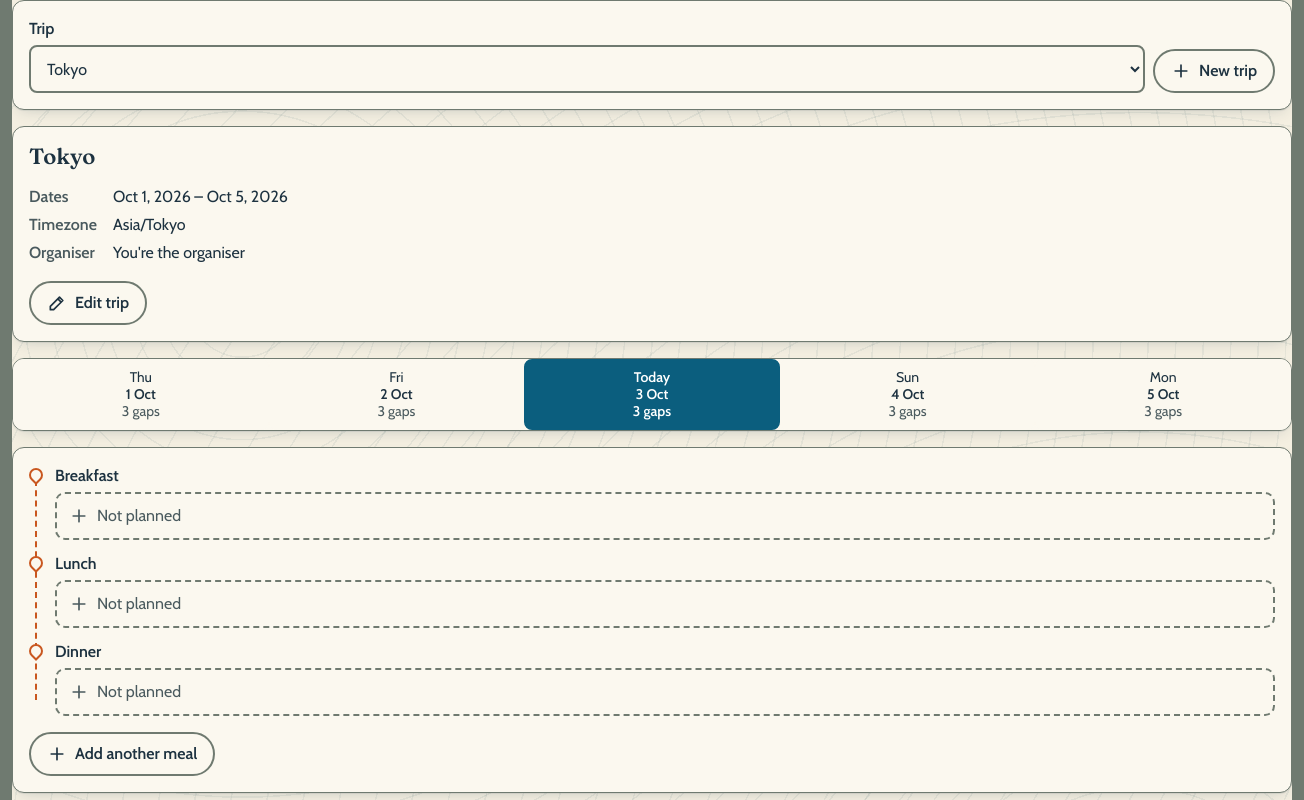
Test: with several trips › can switch to another trip
The width and height of the screenshot is (1304, 800).
Select "Seoul" in the dropdown labelled "Trip" at (587, 69), box left=29, top=45, right=1145, bottom=93
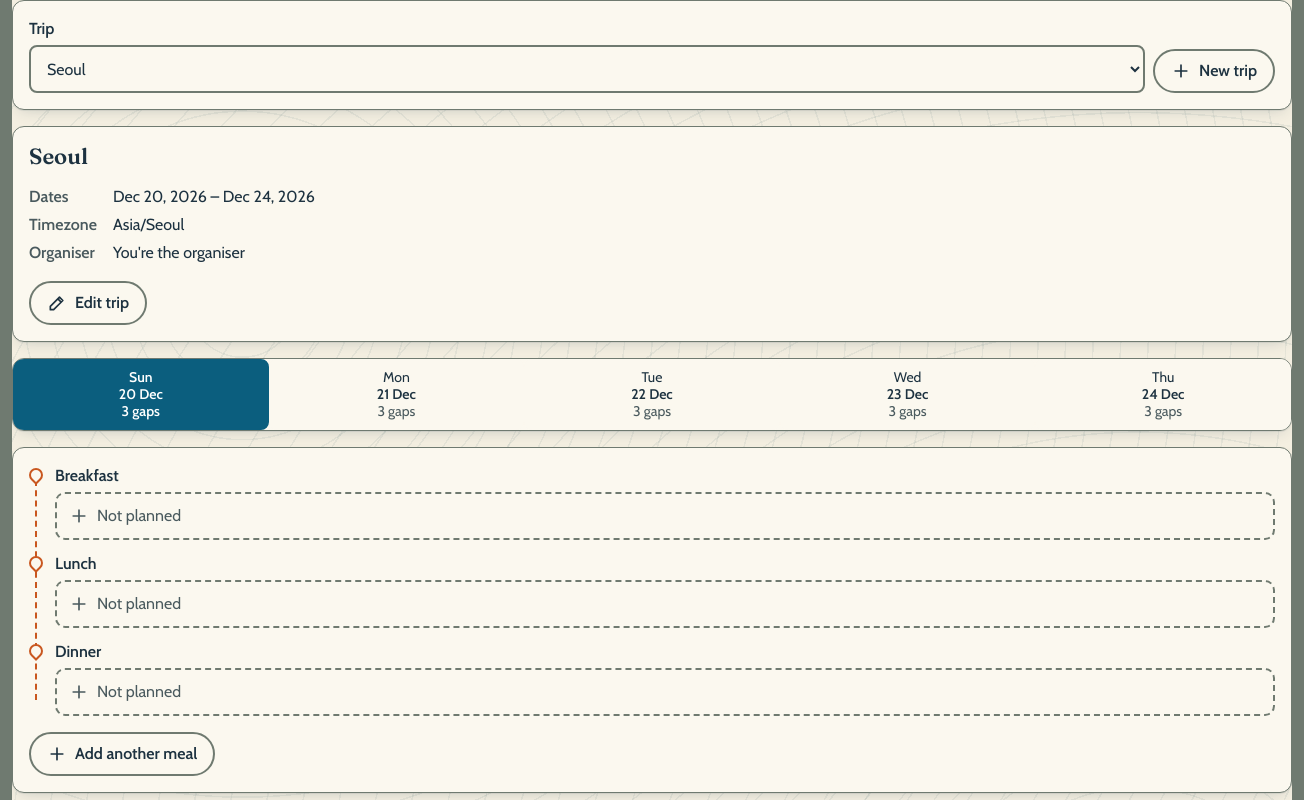
Check: the text "Asia/Seoul" is shown, box left=113, top=215, right=184, bottom=234
